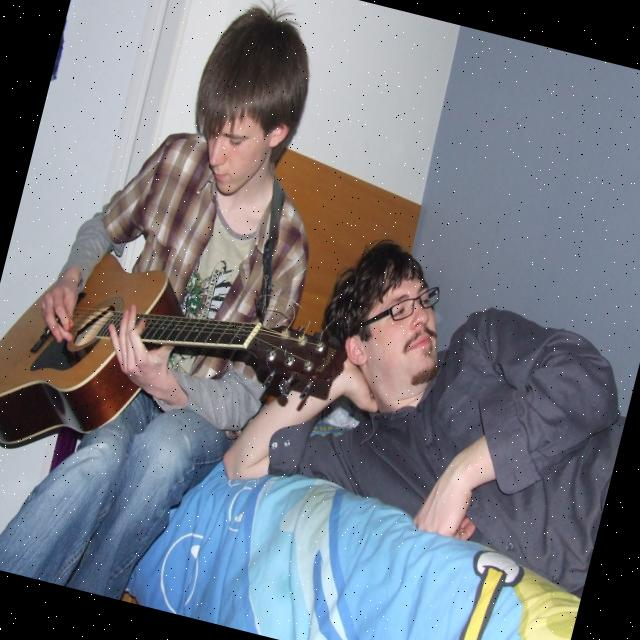guitar: (0, 228, 358, 525)
